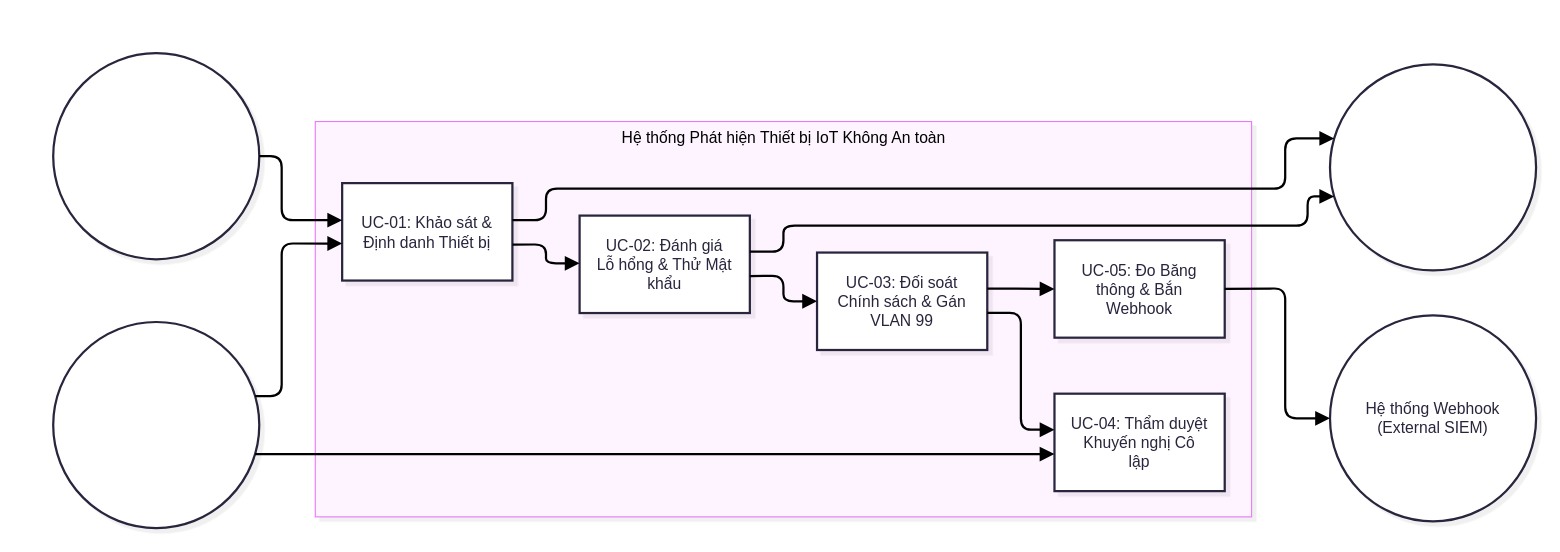
The diagram is 1560 pixels wide and 552 high, and some of its shapes have lost their labels. The centre of each missing label's shape, as x and y in pixels:
"Kiểm toán viên (Security Auditor)" belongs at (158,426).
"Thiết bị IoT (IoT Edge Node)" belongs at (1434,169).
"Tiến trình Tự động (Scheduled Daemon)" belongs at (158,158).
